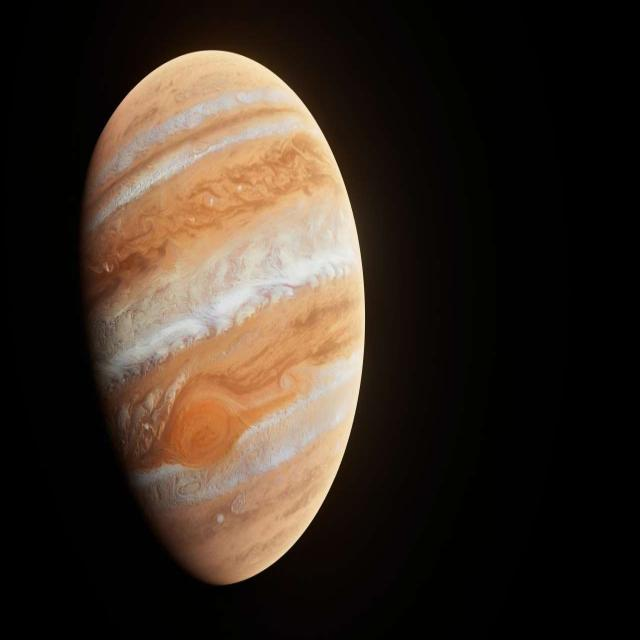Jupiter: (73, 46, 365, 586)
